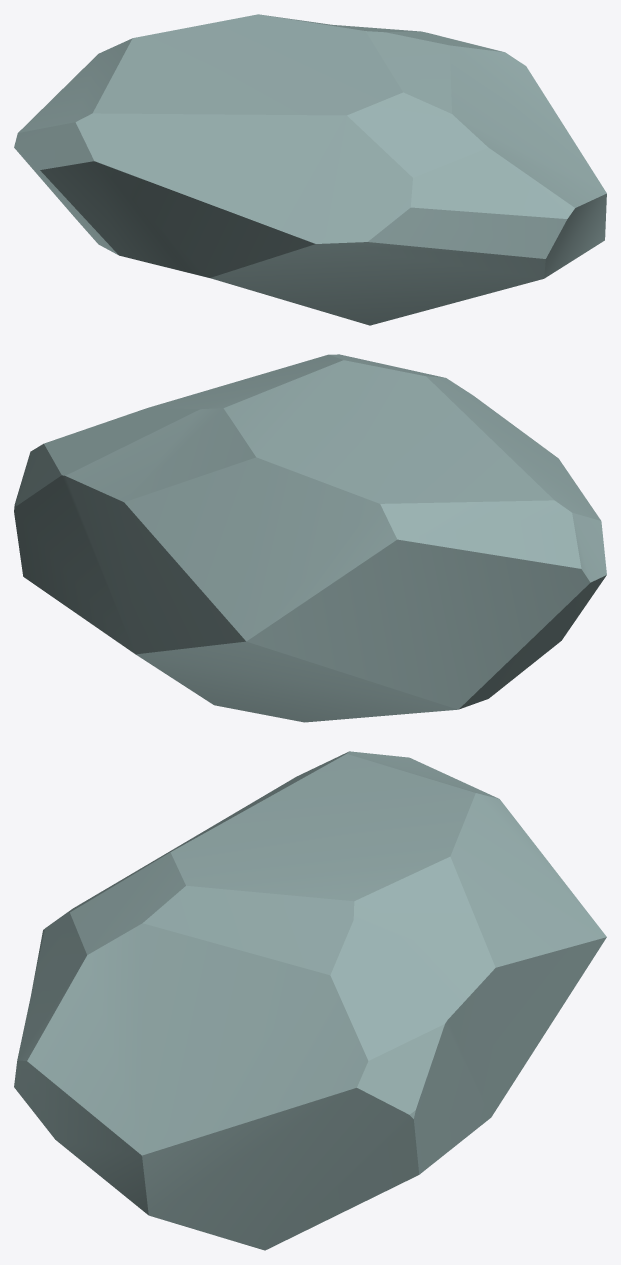
Rendered from rock_flat1.fbx.
3 views of the same model, one above another, from view 1: azimuth 30°, elevation 25°; view 2: azimuth 150°, elevation 25°; view 3: azimuth 270°, elevation 25° (orthographic). The views are drawn at different scales.
Parts seen in each view (by area): view 1: rock_frat1; view 2: rock_frat1; view 3: rock_frat1.
Part boxes in pixels (bbox=[...]): rock_frat1: bbox=[14, 14, 606, 325]; rock_frat1: bbox=[14, 354, 606, 722]; rock_frat1: bbox=[14, 751, 606, 1250].
Size of the model in its own units: 2649 by 1252 by 2287.
